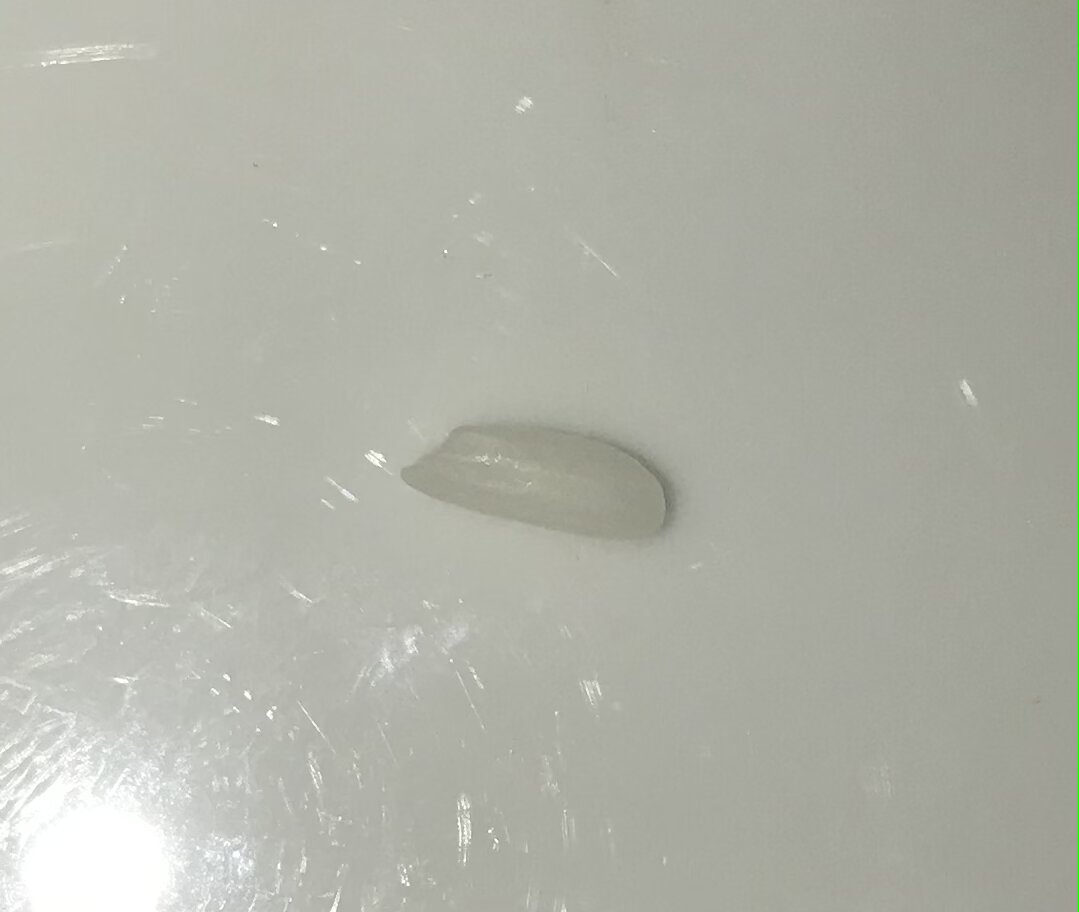Gao Lai Sua: (392, 409, 675, 547)
